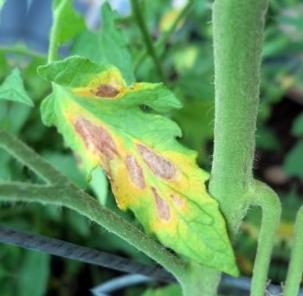Tomato Early blight leaf: (2, 57, 272, 275)
